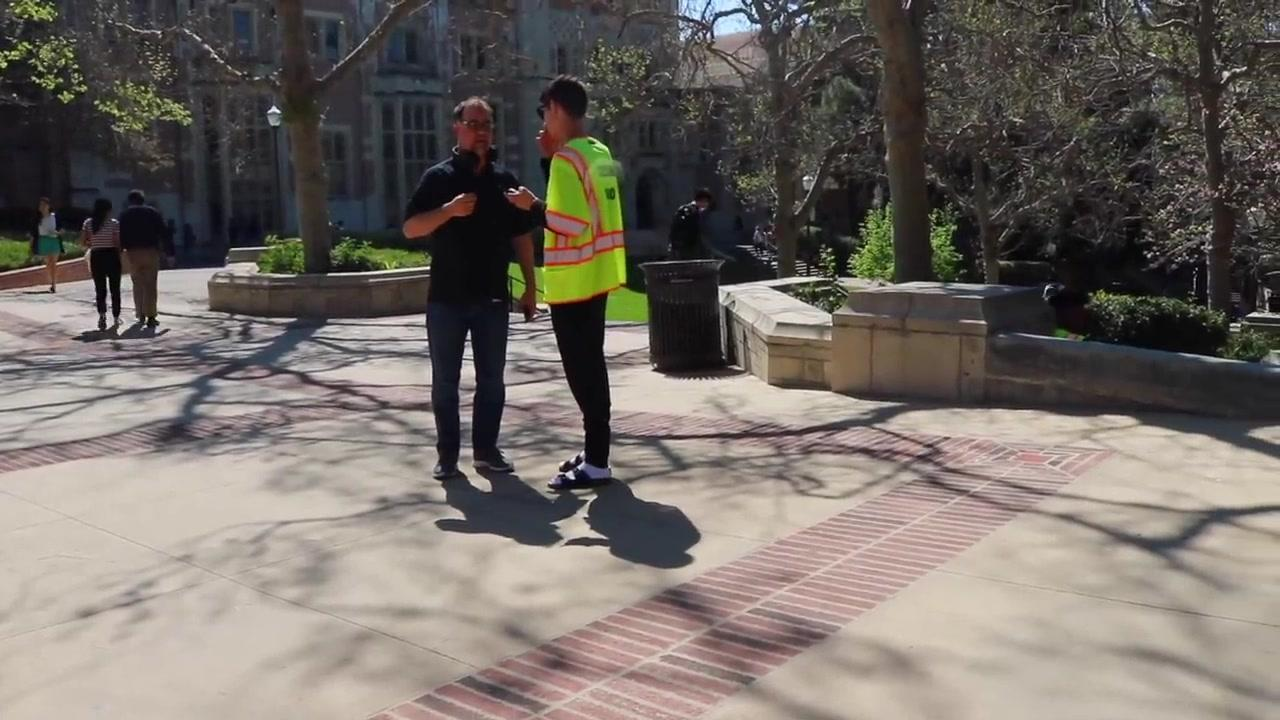vest: (541, 131, 629, 306)
